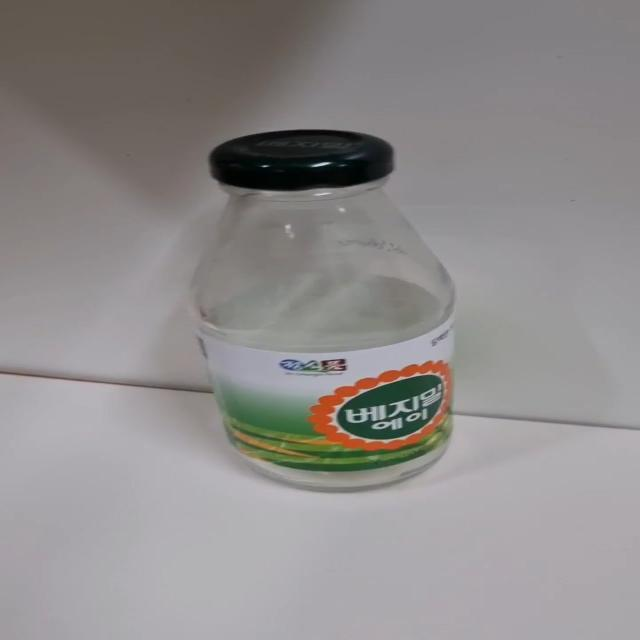Glass: (182, 127, 473, 493)
